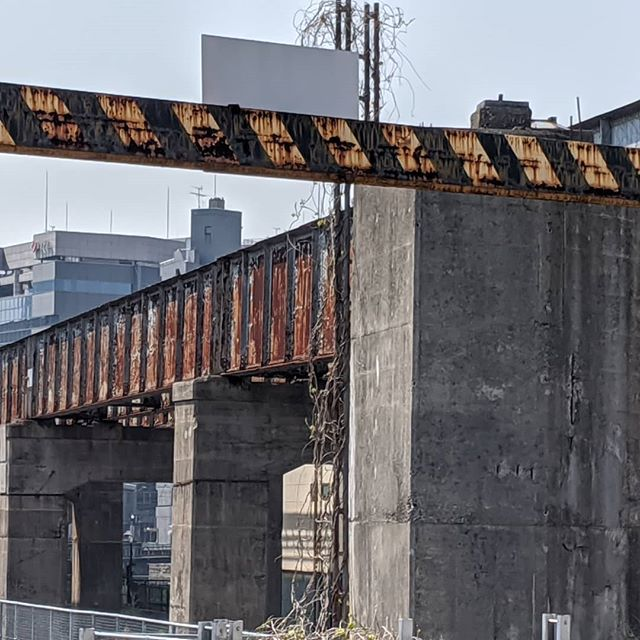bridge: (1, 185, 640, 449)
building: (1, 214, 186, 322)
collumn: (165, 392, 277, 628), (1, 439, 78, 640)
